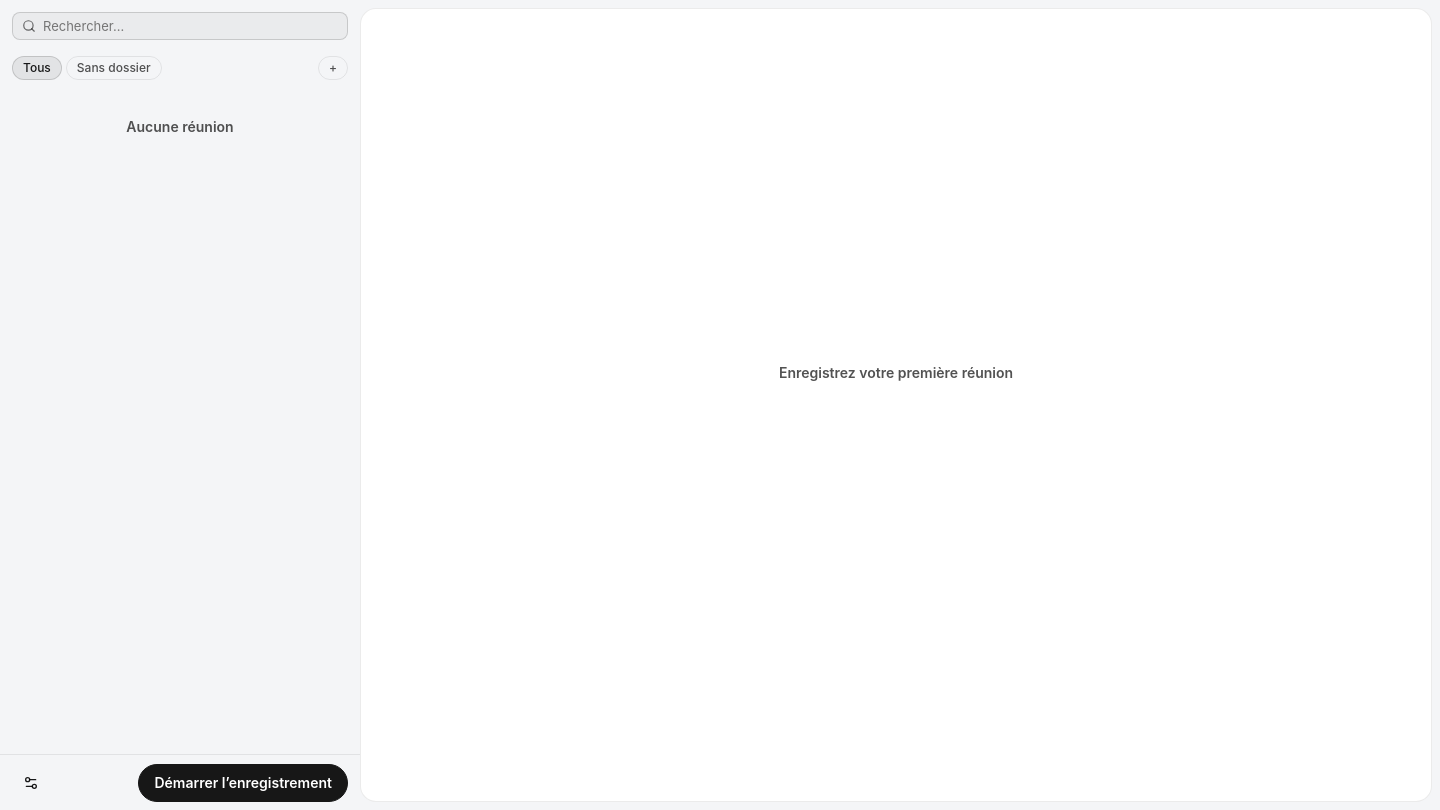
Test: puts the appearance first in the general group, after the analysis
Click the button named "Paramètres": click(31, 782) left=12, top=764, right=50, bottom=802
(page scrolled)
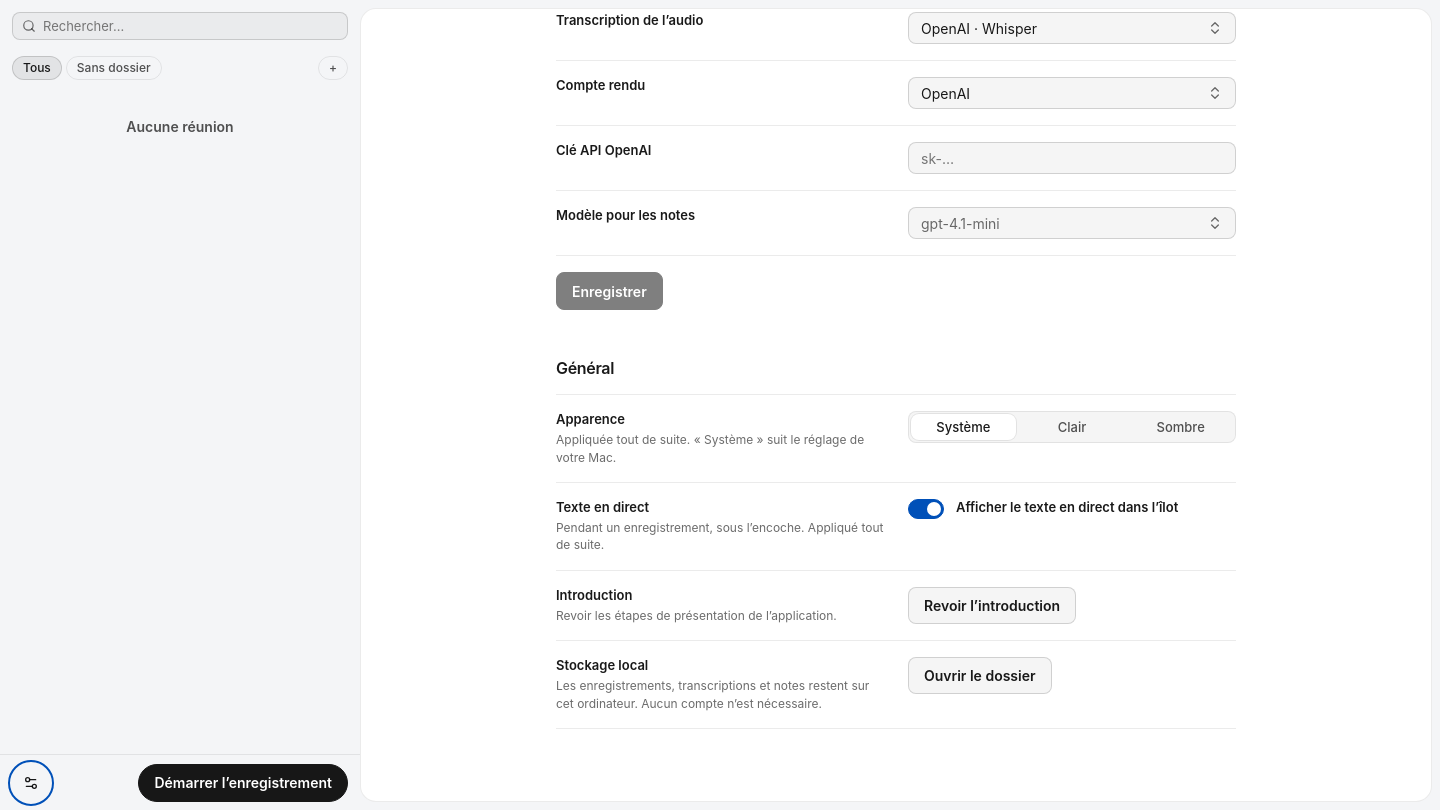
Now the element named "Apparence" is shown, box left=908, top=411, right=1236, bottom=443
